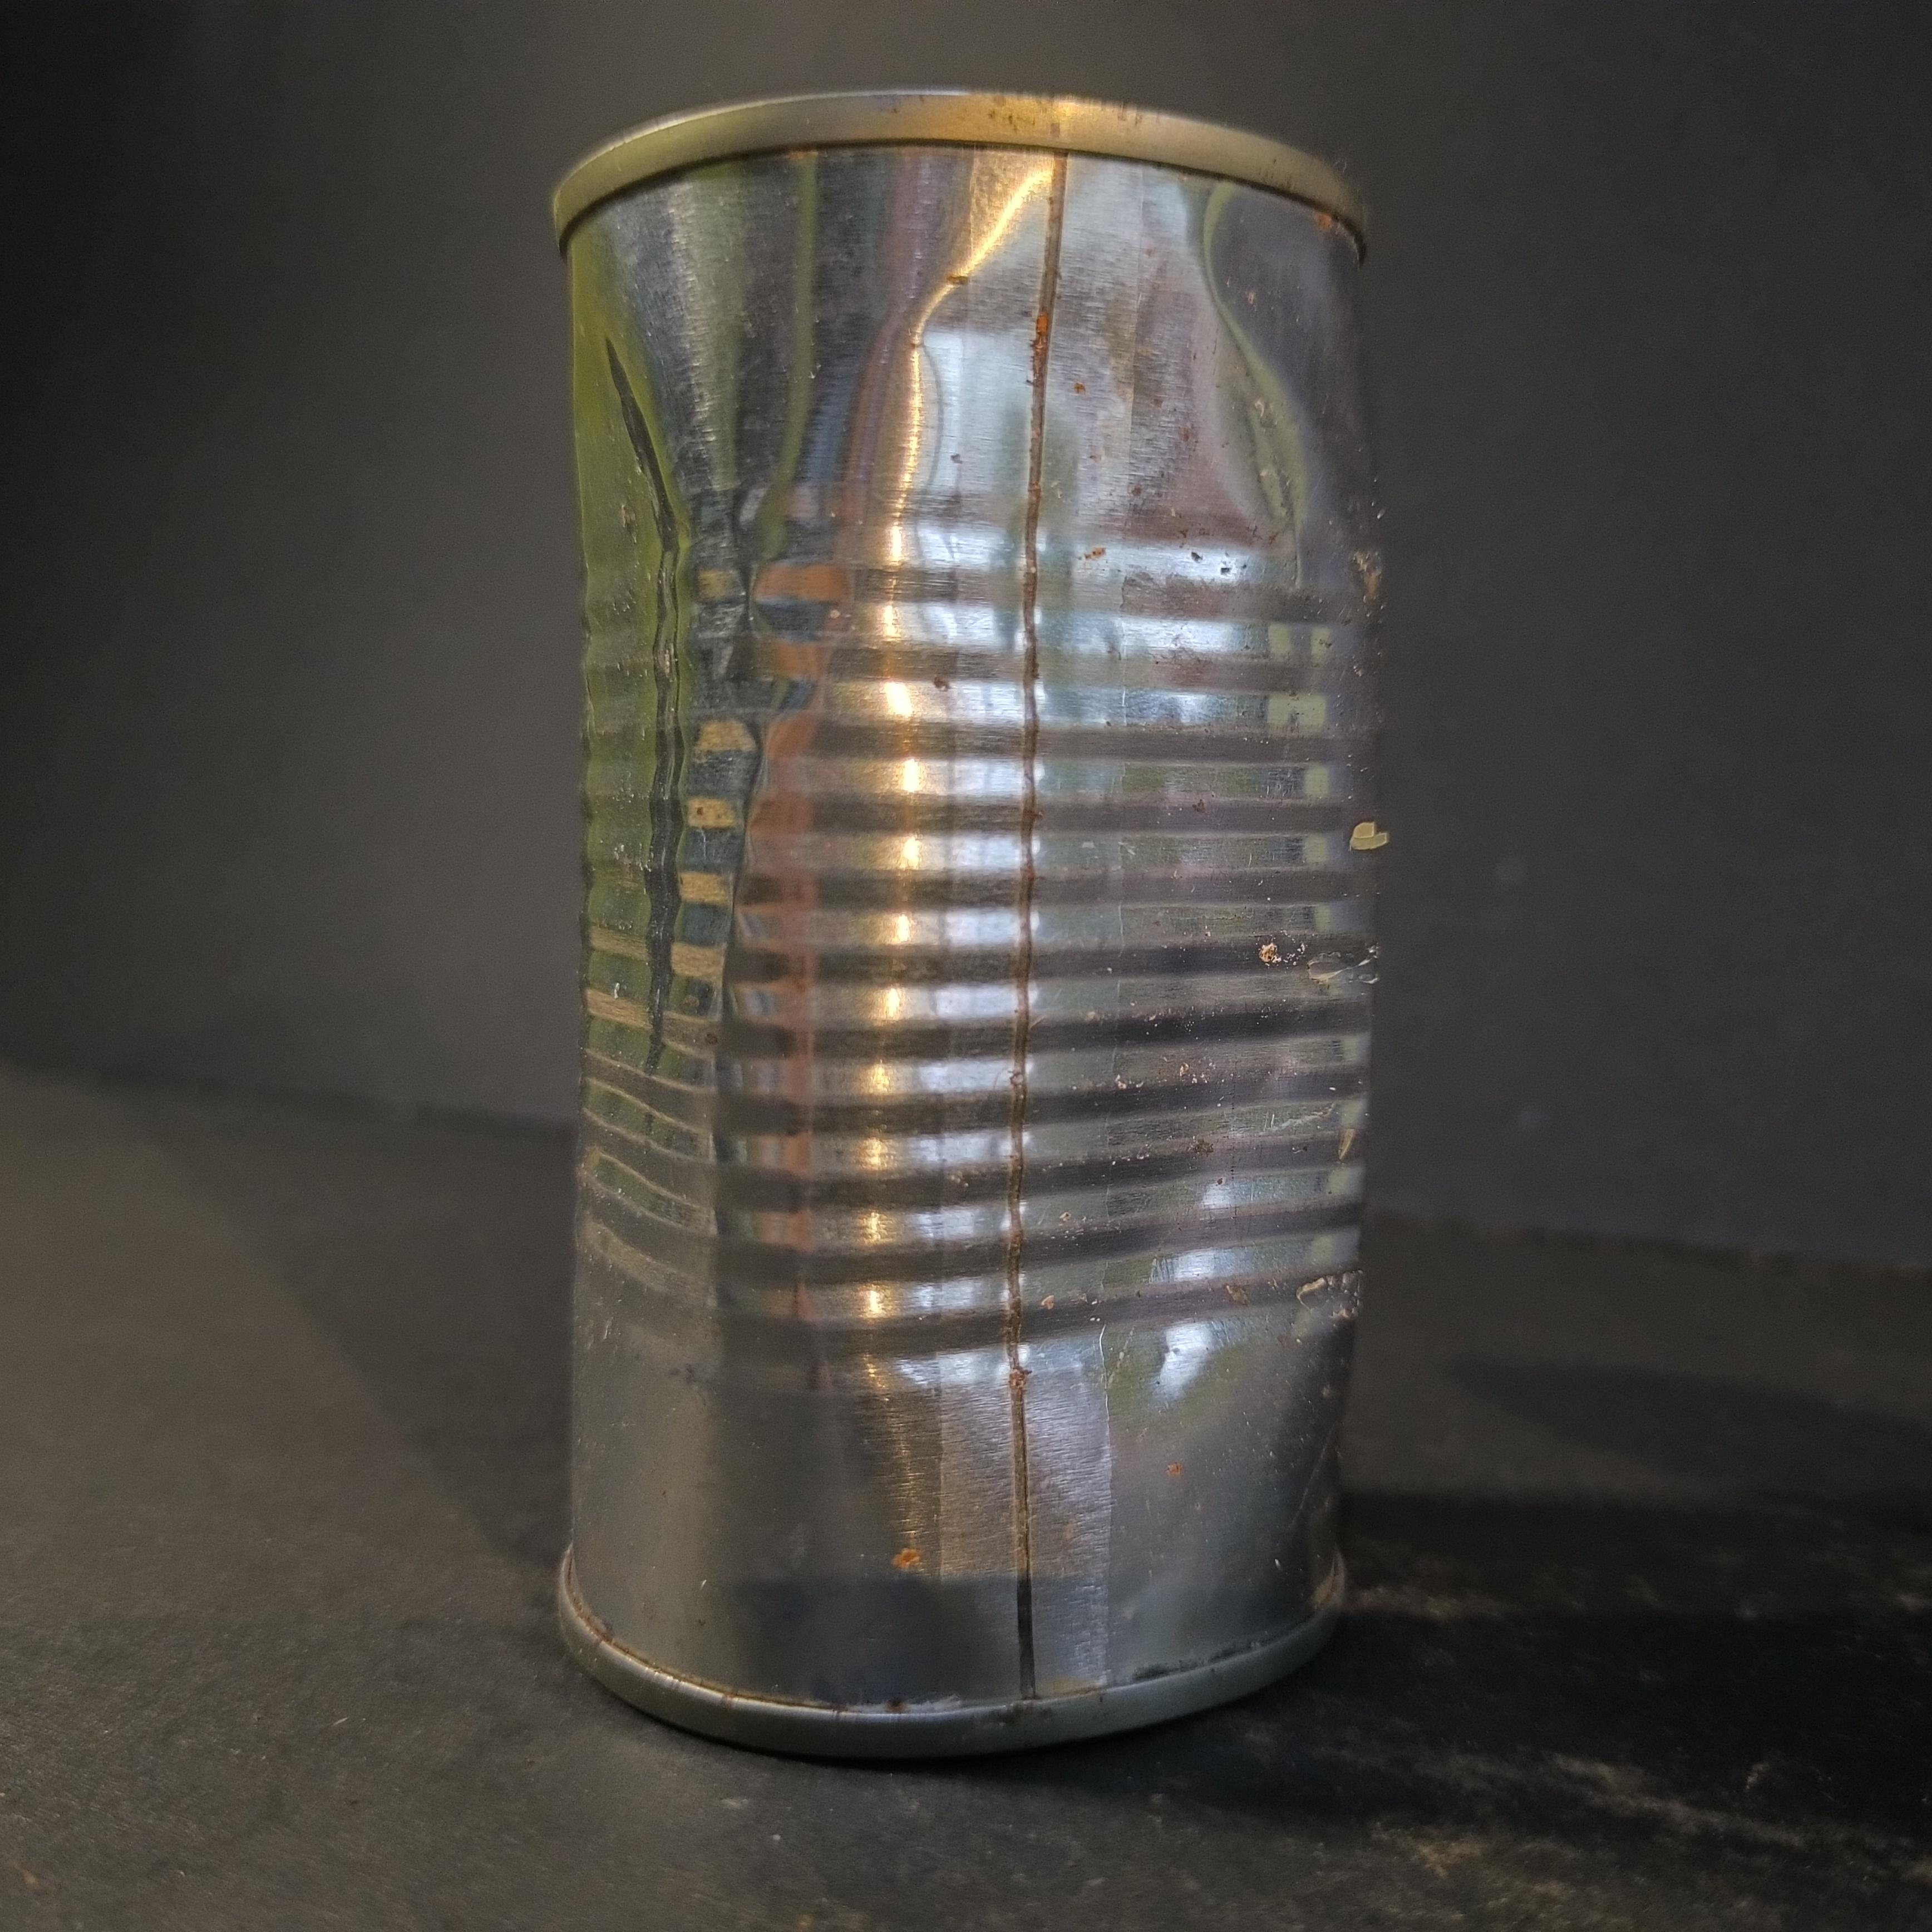Minor Defect: (552, 88, 1385, 1764)
